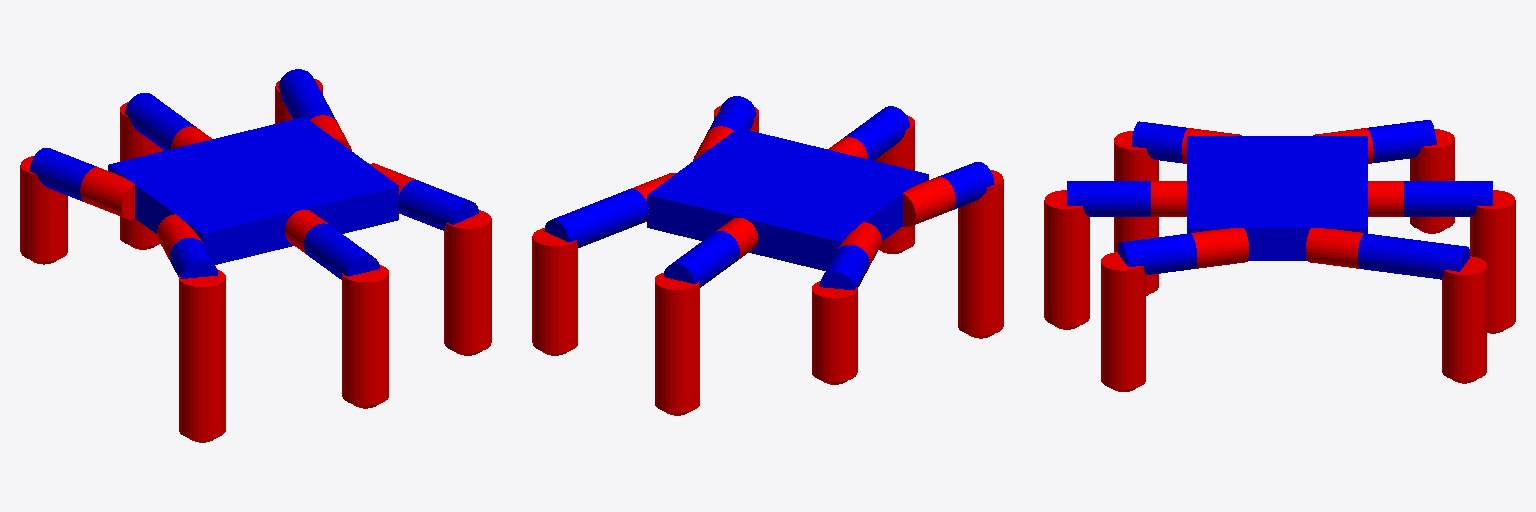
--- Render facts (derived) ---
3 views of the same robot in one strip: view 1: azimuth 30°, elevation 25°; view 2: azimuth 150°, elevation 25°; view 3: azimuth 270°, elevation 25° (orthographic).
Robot: pexod — 19 links, 18 joints (18 revolute); root link base_link; default pose: all joints at 0.
Links seen in each view (by area): view 1: base_link, leg_5_3, leg_3_3, leg_4_3, leg_0_3, leg_3_2, leg_4_2, leg_1_2, leg_0_1, leg_1_3, leg_0_2, leg_2_2 (+5 smaller); view 2: base_link, leg_5_3, leg_1_3, leg_2_3, leg_0_3, leg_2_2, leg_1_2, leg_5_1, leg_4_2, leg_4_3, leg_0_2, leg_5_2 (+3 smaller); view 3: base_link, leg_4_3, leg_3_3, leg_2_3, leg_1_3, leg_2_2, leg_1_2, leg_5_3, leg_4_2, leg_3_2, leg_0_3, leg_0_2 (+5 smaller).
Link boxes in pixels (bbox=[...]): base_link: bbox=[108, 117, 398, 264]; leg_5_3: bbox=[179, 269, 225, 442]; leg_3_3: bbox=[444, 210, 491, 355]; leg_4_3: bbox=[342, 264, 388, 408]; leg_0_3: bbox=[20, 156, 67, 264]; leg_3_2: bbox=[398, 180, 478, 230]; leg_4_2: bbox=[304, 223, 379, 279]; leg_1_2: bbox=[125, 93, 196, 150]; leg_0_1: bbox=[80, 167, 134, 219]; leg_1_3: bbox=[120, 102, 163, 249]; leg_0_2: bbox=[30, 148, 96, 201]; leg_2_2: bbox=[278, 69, 336, 120]; base_link: bbox=[647, 128, 928, 270]; leg_5_3: bbox=[958, 170, 1003, 338]; leg_1_3: bbox=[655, 273, 699, 415]; leg_2_3: bbox=[532, 228, 577, 355]; leg_0_3: bbox=[812, 281, 857, 384]; leg_2_2: bbox=[544, 189, 648, 247]; leg_1_2: bbox=[664, 231, 739, 287]; leg_5_1: bbox=[903, 177, 955, 226]; leg_4_2: bbox=[844, 106, 909, 160]; leg_4_3: bbox=[875, 115, 914, 253]; leg_0_2: bbox=[819, 245, 869, 290]; leg_5_2: bbox=[938, 162, 994, 210]; base_link: bbox=[1187, 136, 1367, 260]; leg_4_3: bbox=[1044, 190, 1089, 329]; leg_3_3: bbox=[1101, 252, 1145, 391]; leg_2_3: bbox=[1442, 256, 1486, 383]; leg_1_3: bbox=[1470, 190, 1515, 333]; leg_2_2: bbox=[1358, 233, 1469, 279]; leg_1_2: bbox=[1404, 181, 1492, 216]; leg_5_3: bbox=[1114, 131, 1158, 295]; leg_4_2: bbox=[1067, 181, 1150, 216]; leg_3_2: bbox=[1118, 233, 1197, 274]; leg_0_3: bbox=[1410, 129, 1454, 233]; leg_0_2: bbox=[1367, 120, 1436, 163].
Bounding box of the posed robot: 0.3817 × 0.5205 × 0.2108 m (x, y, z).
Geometry: primitives only (box / cylinder / sphere), no mesh files.

robot.urdf — pexod:
<?xml version="1.0" ?>
<!-- =================================================================================== -->
<!-- |    This document was autogenerated by xacro from pexod.xacro                    | -->
<!-- |    EDITING THIS FILE BY HAND IS NOT RECOMMENDED                                 | -->
<!-- =================================================================================== -->
<robot name="pexod" xmlns:xacro="http://www.ros.org/wiki/xacro">
  <!-- <xacro:include filename="$(find pexod_description)/urdf/pexod_control.xacro" /> -->
  <!-- MATERIALS -->
  <material name="Blue">
    <color rgba="0 0 1 1"/>
  </material>
  <material name="Red">
    <color rgba="1 0 0 1"/>
  </material>
  <material name="Green">
    <color rgba="0 1 0 1"/>
  </material>
  <material name="Yellow">
    <color rgba="1 1 0 1"/>
  </material>
  <material name="LightGrey">
    <color rgba="0.6 0.6 0.6 1.0"/>
  </material>
  <!-- END OF MATERIALS -->
  <!-- XACRO MACROS FOR VISUALS AND COLLISIONS -->
  <!-- END OF XACRO MACROS -->
  <!-- TORSO -->
  <link name="base_link">
    <visual>
      <origin rpy="0 0 0" xyz="0 0 0"/>
      <geometry>
        <box size="0.24 0.2 0.04"/>
      </geometry>
      <material name="Blue"/>
    </visual>
    <collision>
      <origin rpy="0 0 0" xyz="0 0 0"/>
      <geometry>
        <box size="0.24 0.2 0.04"/>
      </geometry>
    </collision>
    <inertial>
      <!-- CENTER OF MASS -->
      <origin rpy="0 0 0" xyz="0 0 0"/>
      <mass value="1.031"/>
      <!-- box inertia: 1/12*m(y^2+z^2), ... -->
      <inertia ixx="0.00357413333333" ixy="0" ixz="0" iyy="0.00508626666667" iyz="0" izz="0.00838546666667"/>
    </inertial>
  </link>
  <!-- XACRO MACRO FOR LEGS LINKS/JOINTS -->
  <!-- END OF LEG LINKS/JOINTS -->
  <joint name="body_leg_2" type="revolute">
    <parent link="base_link"/>
    <child link="leg_2_1"/>
    <limit effort="30.0" lower="-1.57079632679" upper="1.57079632679" velocity="7.0"/>
    <origin rpy="0 0 -0.3" xyz="0.11 0.04 0"/>
    <!-- <xacro:if value="${index == 5 or index == 4 or index == 3}">
                <axis xyz="0 0 1"/>
            </xacro:if>
            <xacro:if value="${index == 2 or index == 1 or index == 0}"> -->
    <axis xyz="0 0 1"/>
    <!-- </xacro:if> -->
    <dynamics damping="0.0"/>
  </joint>
  <link name="leg_2_1">
    <visual>
      <origin rpy="1.57079632679 0 0" xyz="0.01 0.03 0"/>
      <geometry>
        <cylinder length="0.06" radius="0.02"/>
      </geometry>
      <material name="Red"/>
    </visual>
    <collision>
      <origin rpy="1.57079632679 0 0" xyz="0.01 0.03 0"/>
      <geometry>
        <box size="0.02 0.02 0.06"/>
      </geometry>
    </collision>
    <inertial>
      <!-- CENTER OF MASS -->
      <origin rpy="1.57079632679 0 0" xyz="0.01 0.03 0"/>
      <mass value="0.02"/>
      <!-- box inertia: 1/12*m(y^2+z^2), ... -->
      <inertia ixx="6.66666666667e-06" ixy="0" ixz="0" iyy="6.66666666667e-06" iyz="0" izz="1.33333333333e-06"/>
    </inertial>
  </link>
  <joint name="leg_2_1_2" type="revolute">
    <parent link="leg_2_1"/>
    <child link="leg_2_2"/>
    <limit effort="30.0" lower="-0.78539816339" upper="0.78539816339" velocity="7.0"/>
    <origin rpy="0 0 0" xyz="0 0.06 0"/>
    <axis xyz="1 0 0"/>
    <dynamics damping="0.0"/>
  </joint>
  <link name="leg_2_2">
    <visual>
      <origin rpy="1.57079632679 0 0" xyz="0.01 0.059109627124 0"/>
      <geometry>
        <cylinder length="0.118219254248" radius="0.02"/>
      </geometry>
      <material name="Blue"/>
    </visual>
    <collision>
      <origin rpy="1.57079632679 0 0" xyz="0.01 0.059109627124 0"/>
      <geometry>
        <box size="0.02 0.02 0.118219254248"/>
      </geometry>
    </collision>
    <inertial>
      <!-- CENTER OF MASS -->
      <origin rpy="1.57079632679 0 0" xyz="0.01 0.059109627124 0"/>
      <mass value="0.184"/>
      <!-- box inertia: 1/12*m(y^2+z^2), ... -->
      <inertia ixx="0.000220428811816" ixy="0" ixz="0" iyy="0.000220428811816" iyz="0" izz="1.22666666667e-05"/>
    </inertial>
  </link>
  <joint name="leg_2_2_3" type="revolute">
    <parent link="leg_2_2"/>
    <child link="leg_2_3"/>
    <limit effort="30.0" lower="-0.78539816339" upper="0.78539816339" velocity="7.0"/>
    <origin rpy="-1.57079632679 0 0" xyz="0 0.118219254248 0"/>
    <axis xyz="-1 0 0"/>
    <dynamics damping="0.0"/>
  </joint>
  <link name="leg_2_3">
    <visual>
      <origin rpy="1.57079632679 0 0" xyz="0.0125 0.064524246745 0"/>
      <geometry>
        <cylinder length="0.12904849349" radius="0.025"/>
      </geometry>
      <material name="Red"/>
    </visual>
    <visual>
      <origin rpy="1.57079632679 0 0" xyz="0.0125 0.11654849349 0"/>
      <geometry>
        <sphere radius="0.025"/>
      </geometry>
      <material name="Red"/>
    </visual>
    <collision>
      <origin rpy="1.57079632679 0 0" xyz="0.0125 0.064524246745 0"/>
      <geometry>
        <box size="0.025 0.025 0.12904849349"/>
      </geometry>
    </collision>
    <collision>
      <origin rpy="1.57079632679 0 0" xyz="0.0125 0.11654849349 0"/>
      <geometry>
        <sphere radius="0.025"/>
      </geometry>
      <material name="Red"/>
    </collision>
    <inertial>
      <!-- CENTER OF MASS -->
      <origin rpy="1.57079632679 0 0" xyz="0.0125 0.064524246745 0"/>
      <mass value="0.04"/>
      <!-- box inertia: 1/12*m(y^2+z^2), ... -->
      <inertia ixx="5.75950455735e-05" ixy="0" ixz="0" iyy="5.75950455735e-05" iyz="0" izz="4.16666666667e-06"/>
    </inertial>
  </link>
  <joint name="body_leg_3" type="revolute">
    <parent link="base_link"/>
    <child link="leg_3_1"/>
    <limit effort="30.0" lower="-1.57079632679" upper="1.57079632679" velocity="7.0"/>
    <origin rpy="0 0 0.3" xyz="0.11 -0.04 0"/>
    <!-- <xacro:if value="${index == 5 or index == 4 or index == 3}">
                <axis xyz="0 0 1"/>
            </xacro:if>
            <xacro:if value="${index == 2 or index == 1 or index == 0}"> -->
    <axis xyz="0 0 1"/>
    <!-- </xacro:if> -->
    <dynamics damping="0.0"/>
  </joint>
  <link name="leg_3_1">
    <visual>
      <origin rpy="1.57079632679 0 0" xyz="0.01 -0.03 0"/>
      <geometry>
        <cylinder length="0.06" radius="0.02"/>
      </geometry>
      <material name="Red"/>
    </visual>
    <collision>
      <origin rpy="1.57079632679 0 0" xyz="0.01 -0.03 0"/>
      <geometry>
        <box size="0.02 0.02 0.06"/>
      </geometry>
    </collision>
    <inertial>
      <!-- CENTER OF MASS -->
      <origin rpy="1.57079632679 0 0" xyz="0.01 -0.03 0"/>
      <mass value="0.02"/>
      <!-- box inertia: 1/12*m(y^2+z^2), ... -->
      <inertia ixx="6.66666666667e-06" ixy="0" ixz="0" iyy="6.66666666667e-06" iyz="0" izz="1.33333333333e-06"/>
    </inertial>
  </link>
  <joint name="leg_3_1_2" type="revolute">
    <parent link="leg_3_1"/>
    <child link="leg_3_2"/>
    <limit effort="30.0" lower="-0.78539816339" upper="0.78539816339" velocity="7.0"/>
    <origin rpy="0 0 0" xyz="0 -0.06 0"/>
    <axis xyz="-1 0 0"/>
    <dynamics damping="0.0"/>
  </joint>
  <link name="leg_3_2">
    <visual>
      <origin rpy="1.57079632679 0 0" xyz="0.01 -0.0399993114302 0"/>
      <geometry>
        <cylinder length="0.0799986228603" radius="0.02"/>
      </geometry>
      <material name="Blue"/>
    </visual>
    <collision>
      <origin rpy="1.57079632679 0 0" xyz="0.01 -0.0399993114302 0"/>
      <geometry>
        <box size="0.02 0.02 0.0799986228603"/>
      </geometry>
    </collision>
    <inertial>
      <!-- CENTER OF MASS -->
      <origin rpy="1.57079632679 0 0" xyz="0.01 -0.0399993114302 0"/>
      <mass value="0.184"/>
      <!-- box inertia: 1/12*m(y^2+z^2), ... -->
      <inertia ixx="0.000104263288113" ixy="0" ixz="0" iyy="0.000104263288113" iyz="0" izz="1.22666666667e-05"/>
    </inertial>
  </link>
  <joint name="leg_3_2_3" type="revolute">
    <parent link="leg_3_2"/>
    <child link="leg_3_3"/>
    <limit effort="30.0" lower="-0.78539816339" upper="0.78539816339" velocity="7.0"/>
    <origin rpy="1.57079632679 0 0" xyz="0 -0.0799986228603 0"/>
    <axis xyz="1 0 0"/>
    <dynamics damping="0.0"/>
  </joint>
  <link name="leg_3_3">
    <visual>
      <origin rpy="1.57079632679 0 0" xyz="0.0125 -0.0724970140915 0"/>
      <geometry>
        <cylinder length="0.144994028183" radius="0.025"/>
      </geometry>
      <material name="Red"/>
    </visual>
    <visual>
      <origin rpy="1.57079632679 0 0" xyz="0.0125 -0.132494028183 0"/>
      <geometry>
        <sphere radius="0.025"/>
      </geometry>
      <material name="Red"/>
    </visual>
    <collision>
      <origin rpy="1.57079632679 0 0" xyz="0.0125 -0.0724970140915 0"/>
      <geometry>
        <box size="0.025 0.025 0.144994028183"/>
      </geometry>
    </collision>
    <collision>
      <origin rpy="1.57079632679 0 0" xyz="0.0125 -0.132494028183 0"/>
      <geometry>
        <sphere radius="0.025"/>
      </geometry>
      <material name="Red"/>
    </collision>
    <inertial>
      <!-- CENTER OF MASS -->
      <origin rpy="1.57079632679 0 0" xyz="0.0125 -0.0724970140915 0"/>
      <mass value="0.04"/>
      <!-- box inertia: 1/12*m(y^2+z^2), ... -->
      <inertia ixx="7.21608940291e-05" ixy="0" ixz="0" iyy="7.21608940291e-05" iyz="0" izz="4.16666666667e-06"/>
    </inertial>
  </link>
  <joint name="body_leg_0" type="revolute">
    <parent link="base_link"/>
    <child link="leg_0_1"/>
    <limit effort="30.0" lower="-1.57079632679" upper="1.57079632679" velocity="7.0"/>
    <origin rpy="0 0 0.3" xyz="-0.13 0.04 0"/>
    <!-- <xacro:if value="${index == 5 or index == 4 or index == 3}">
                <axis xyz="0 0 1"/>
            </xacro:if>
            <xacro:if value="${index == 2 or index == 1 or index == 0}"> -->
    <axis xyz="0 0 1"/>
    <!-- </xacro:if> -->
    <dynamics damping="0.0"/>
  </joint>
  <link name="leg_0_1">
    <visual>
      <origin rpy="1.57079632679 0 0" xyz="0.01 0.03 0"/>
      <geometry>
        <cylinder length="0.06" radius="0.02"/>
      </geometry>
      <material name="Red"/>
    </visual>
    <collision>
      <origin rpy="1.57079632679 0 0" xyz="0.01 0.03 0"/>
      <geometry>
        <box size="0.02 0.02 0.06"/>
      </geometry>
    </collision>
    <inertial>
      <!-- CENTER OF MASS -->
      <origin rpy="1.57079632679 0 0" xyz="0.01 0.03 0"/>
      <mass value="0.02"/>
      <!-- box inertia: 1/12*m(y^2+z^2), ... -->
      <inertia ixx="6.66666666667e-06" ixy="0" ixz="0" iyy="6.66666666667e-06" iyz="0" izz="1.33333333333e-06"/>
    </inertial>
  </link>
  <joint name="leg_0_1_2" type="revolute">
    <parent link="leg_0_1"/>
    <child link="leg_0_2"/>
    <limit effort="30.0" lower="-0.78539816339" upper="0.78539816339" velocity="7.0"/>
    <origin rpy="0 0 0" xyz="0 0.06 0"/>
    <axis xyz="1 0 0"/>
    <dynamics damping="0.0"/>
  </joint>
  <link name="leg_0_2">
    <visual>
      <origin rpy="1.57079632679 0 0" xyz="0.01 0.0364745700105 0"/>
      <geometry>
        <cylinder length="0.072949140021" radius="0.02"/>
      </geometry>
      <material name="Blue"/>
    </visual>
    <collision>
      <origin rpy="1.57079632679 0 0" xyz="0.01 0.0364745700105 0"/>
      <geometry>
        <box size="0.02 0.02 0.072949140021"/>
      </geometry>
    </collision>
    <inertial>
      <!-- CENTER OF MASS -->
      <origin rpy="1.57079632679 0 0" xyz="0.01 0.0364745700105 0"/>
      <mass value="0.184"/>
      <!-- box inertia: 1/12*m(y^2+z^2), ... -->
      <inertia ixx="8.77308477903e-05" ixy="0" ixz="0" iyy="8.77308477903e-05" iyz="0" izz="1.22666666667e-05"/>
    </inertial>
  </link>
  <joint name="leg_0_2_3" type="revolute">
    <parent link="leg_0_2"/>
    <child link="leg_0_3"/>
    <limit effort="30.0" lower="-0.78539816339" upper="0.78539816339" velocity="7.0"/>
    <origin rpy="-1.57079632679 0 0" xyz="0 0.072949140021 0"/>
    <axis xyz="-1 0 0"/>
    <dynamics damping="0.0"/>
  </joint>
  <link name="leg_0_3">
    <visual>
      <origin rpy="1.57079632679 0 0" xyz="0.0125 0.050621803483 0"/>
      <geometry>
        <cylinder length="0.101243606966" radius="0.025"/>
      </geometry>
      <material name="Red"/>
    </visual>
    <visual>
      <origin rpy="1.57079632679 0 0" xyz="0.0125 0.088743606966 0"/>
      <geometry>
        <sphere radius="0.025"/>
      </geometry>
      <material name="Red"/>
    </visual>
    <collision>
      <origin rpy="1.57079632679 0 0" xyz="0.0125 0.050621803483 0"/>
      <geometry>
        <box size="0.025 0.025 0.101243606966"/>
      </geometry>
    </collision>
    <collision>
      <origin rpy="1.57079632679 0 0" xyz="0.0125 0.088743606966 0"/>
      <geometry>
        <sphere radius="0.025"/>
      </geometry>
      <material name="Red"/>
    </collision>
    <inertial>
      <!-- CENTER OF MASS -->
      <origin rpy="1.57079632679 0 0" xyz="0.0125 0.050621803483 0"/>
      <mass value="0.04"/>
      <!-- box inertia: 1/12*m(y^2+z^2), ... -->
      <inertia ixx="3.62508931716e-05" ixy="0" ixz="0" iyy="3.62508931716e-05" iyz="0" izz="4.16666666667e-06"/>
    </inertial>
  </link>
  <joint name="body_leg_5" type="revolute">
    <parent link="base_link"/>
    <child link="leg_5_1"/>
    <limit effort="30.0" lower="-1.57079632679" upper="1.57079632679" velocity="7.0"/>
    <origin rpy="0 0 -0.3" xyz="-0.13 -0.04 0"/>
    <!-- <xacro:if value="${index == 5 or index == 4 or index == 3}">
                <axis xyz="0 0 1"/>
            </xacro:if>
            <xacro:if value="${index == 2 or index == 1 or index == 0}"> -->
    <axis xyz="0 0 1"/>
    <!-- </xacro:if> -->
    <dynamics damping="0.0"/>
  </joint>
  <link name="leg_5_1">
    <visual>
      <origin rpy="1.57079632679 0 0" xyz="0.01 -0.03 0"/>
      <geometry>
        <cylinder length="0.06" radius="0.02"/>
      </geometry>
      <material name="Red"/>
    </visual>
    <collision>
      <origin rpy="1.57079632679 0 0" xyz="0.01 -0.03 0"/>
      <geometry>
        <box size="0.02 0.02 0.06"/>
      </geometry>
    </collision>
    <inertial>
      <!-- CENTER OF MASS -->
      <origin rpy="1.57079632679 0 0" xyz="0.01 -0.03 0"/>
      <mass value="0.02"/>
      <!-- box inertia: 1/12*m(y^2+z^2), ... -->
      <inertia ixx="6.66666666667e-06" ixy="0" ixz="0" iyy="6.66666666667e-06" iyz="0" izz="1.33333333333e-06"/>
    </inertial>
  </link>
  <joint name="leg_5_1_2" type="revolute">
    <parent link="leg_5_1"/>
    <child link="leg_5_2"/>
    <limit effort="30.0" lower="-0.78539816339" upper="0.78539816339" velocity="7.0"/>
    <origin rpy="0 0 0" xyz="0 -0.06 0"/>
    <axis xyz="-1 0 0"/>
    <dynamics damping="0.0"/>
  </joint>
  <link name="leg_5_2">
    <visual>
      <origin rpy="1.57079632679 0 0" xyz="0.01 -0.0288432952576 0"/>
      <geometry>
        <cylinder length="0.0576865905153" radius="0.02"/>
      </geometry>
      <material name="Blue"/>
    </visual>
    <collision>
      <origin rpy="1.57079632679 0 0" xyz="0.01 -0.0288432952576 0"/>
      <geometry>
        <box size="0.02 0.02 0.0576865905153"/>
      </geometry>
    </collision>
    <inertial>
      <!-- CENTER OF MASS -->
      <origin rpy="1.57079632679 0 0" xyz="0.01 -0.0288432952576 0"/>
      <mass value="0.184"/>
      <!-- box inertia: 1/12*m(y^2+z^2), ... -->
      <inertia ixx="5.71587217876e-05" ixy="0" ixz="0" iyy="5.71587217876e-05" iyz="0" izz="1.22666666667e-05"/>
    </inertial>
  </link>
  <joint name="leg_5_2_3" type="revolute">
    <parent link="leg_5_2"/>
    <child link="leg_5_3"/>
    <limit effort="30.0" lower="-0.78539816339" upper="0.78539816339" velocity="7.0"/>
    <origin rpy="1.57079632679 0 0" xyz="0 -0.0576865905153 0"/>
    <axis xyz="1 0 0"/>
    <dynamics damping="0.0"/>
  </joint>
  <link name="leg_5_3">
    <visual>
      <origin rpy="1.57079632679 0 0" xyz="0.0125 -0.089140781874 0"/>
      <geometry>
        <cylinder length="0.178281563748" radius="0.025"/>
      </geometry>
      <material name="Red"/>
    </visual>
    <visual>
      <origin rpy="1.57079632679 0 0" xyz="0.0125 -0.165781563748 0"/>
      <geometry>
        <sphere radius="0.025"/>
      </geometry>
      <material name="Red"/>
    </visual>
    <collision>
      <origin rpy="1.57079632679 0 0" xyz="0.0125 -0.089140781874 0"/>
      <geometry>
        <box size="0.025 0.025 0.178281563748"/>
      </geometry>
    </collision>
    <collision>
      <origin rpy="1.57079632679 0 0" xyz="0.0125 -0.165781563748 0"/>
      <geometry>
        <sphere radius="0.025"/>
      </geometry>
      <material name="Red"/>
    </collision>
    <inertial>
      <!-- CENTER OF MASS -->
      <origin rpy="1.57079632679 0 0" xyz="0.0125 -0.089140781874 0"/>
      <mass value="0.04"/>
      <!-- box inertia: 1/12*m(y^2+z^2), ... -->
      <inertia ixx="0.000108031053241" ixy="0" ixz="0" iyy="0.000108031053241" iyz="0" izz="4.16666666667e-06"/>
    </inertial>
  </link>
  <joint name="body_leg_1" type="revolute">
    <parent link="base_link"/>
    <child link="leg_1_1"/>
    <limit effort="30.0" lower="-1.57079632679" upper="1.57079632679" velocity="7.0"/>
    <origin rpy="0 0 0" xyz="-0.01 0.08 0"/>
    <!-- <xacro:if value="${index == 5 or index == 4 or index == 3}">
                <axis xyz="0 0 1"/>
            </xacro:if>
            <xacro:if value="${index == 2 or index == 1 or index == 0}"> -->
    <axis xyz="0 0 1"/>
    <!-- </xacro:if> -->
    <dynamics damping="0.0"/>
  </joint>
  <link name="leg_1_1">
    <visual>
      <origin rpy="1.57079632679 0 0" xyz="0.01 0.03 0"/>
      <geometry>
        <cylinder length="0.06" radius="0.02"/>
      </geometry>
      <material name="Red"/>
    </visual>
    <collision>
      <origin rpy="1.57079632679 0 0" xyz="0.01 0.03 0"/>
      <geometry>
        <box size="0.02 0.02 0.06"/>
      </geometry>
    </collision>
    <inertial>
      <!-- CENTER OF MASS -->
      <origin rpy="1.57079632679 0 0" xyz="0.01 0.03 0"/>
      <mass value="0.02"/>
      <!-- box inertia: 1/12*m(y^2+z^2), ... -->
      <inertia ixx="6.66666666667e-06" ixy="0" ixz="0" iyy="6.66666666667e-06" iyz="0" izz="1.33333333333e-06"/>
    </inertial>
  </link>
  <joint name="leg_1_1_2" type="revolute">
    <parent link="leg_1_1"/>
    <child link="leg_1_2"/>
    <limit effort="30.0" lower="-0.78539816339" upper="0.78539816339" velocity="7.0"/>
    <origin rpy="0 0 0" xyz="0 0.06 0"/>
    <axis xyz="1 0 0"/>
    <dynamics damping="0.0"/>
  </joint>
  <link name="leg_1_2">
    <visual>
      <origin rpy="1.57079632679 0 0" xyz="0.01 0.0489709491867 0"/>
      <geometry>
        <cylinder length="0.0979418983735" radius="0.02"/>
      </geometry>
      <material name="Blue"/>
    </visual>
    <collision>
      <origin rpy="1.57079632679 0 0" xyz="0.01 0.0489709491867 0"/>
      <geometry>
        <box size="0.02 0.02 0.0979418983735"/>
      </geometry>
    </collision>
    <inertial>
      <!-- CENTER OF MASS -->
      <origin rpy="1.57079632679 0 0" xyz="0.01 0.0489709491867 0"/>
      <mass value="0.184"/>
      <!-- box inertia: 1/12*m(y^2+z^2), ... -->
      <inertia ixx="0.000153220103674" ixy="0" ixz="0" iyy="0.000153220103674" iyz="0" izz="1.22666666667e-05"/>
    </inertial>
  </link>
  <joint name="leg_1_2_3" type="revolute">
    <parent link="leg_1_2"/>
    <child link="leg_1_3"/>
    <limit effort="30.0" lower="-0.78539816339" upper="0.78539816339" velocity="7.0"/>
    <origin rpy="-1.57079632679 0 0" xyz="0 0.0979418983735 0"/>
    <axis xyz="-1 0 0"/>
    <dynamics damping="0.0"/>
  </joint>
  <link name="leg_1_3">
    <visual>
      <origin rpy="1.57079632679 0 0" xyz="0.0125 0.0742619418565 0"/>
      <geometry>
        <cylinder length="0.148523883713" radius="0.025"/>
      </geometry>
      <material name="Red"/>
    </visual>
    <visual>
      <origin rpy="1.57079632679 0 0" xyz="0.0125 0.136023883713 0"/>
      <geometry>
        <sphere radius="0.025"/>
      </geometry>
      <material name="Red"/>
    </visual>
    <collision>
      <origin rpy="1.57079632679 0 0" xyz="0.0125 0.0742619418565 0"/>
      <geometry>
        <box size="0.025 0.025 0.148523883713"/>
      </geometry>
    </collision>
    <collision>
      <origin rpy="1.57079632679 0 0" xyz="0.0125 0.136023883713 0"/>
      <geometry>
        <sphere radius="0.025"/>
      </geometry>
      <material name="Red"/>
    </collision>
    <inertial>
      <!-- CENTER OF MASS -->
      <origin rpy="1.57079632679 0 0" xyz="0.0125 0.0742619418565 0"/>
      <mass value="0.04"/>
      <!-- box inertia: 1/12*m(y^2+z^2), ... -->
      <inertia ixx="7.56144801106e-05" ixy="0" ixz="0" iyy="7.56144801106e-05" iyz="0" izz="4.16666666667e-06"/>
    </inertial>
  </link>
  <joint name="body_leg_4" type="revolute">
    <parent link="base_link"/>
    <child link="leg_4_1"/>
    <limit effort="30.0" lower="-1.57079632679" upper="1.57079632679" velocity="7.0"/>
    <origin rpy="0 0 0" xyz="-0.01 -0.08 0"/>
    <!-- <xacro:if value="${index == 5 or index == 4 or index == 3}">
                <axis xyz="0 0 1"/>
            </xacro:if>
            <xacro:if value="${index == 2 or index == 1 or index == 0}"> -->
    <axis xyz="0 0 1"/>
    <!-- </xacro:if> -->
    <dynamics damping="0.0"/>
  </joint>
  <link name="leg_4_1">
    <visual>
      <origin rpy="1.57079632679 0 0" xyz="0.01 -0.03 0"/>
      <geometry>
        <cylinder length="0.06" radius="0.02"/>
      </geometry>
      <material name="Red"/>
    </visual>
    <collision>
      <origin rpy="1.57079632679 0 0" xyz="0.01 -0.03 0"/>
      <geometry>
        <box size="0.02 0.02 0.06"/>
      </geometry>
    </collision>
    <inertial>
      <!-- CENTER OF MASS -->
      <origin rpy="1.57079632679 0 0" xyz="0.01 -0.03 0"/>
      <mass value="0.02"/>
      <!-- box inertia: 1/12*m(y^2+z^2), ... -->
      <inertia ixx="6.66666666667e-06" ixy="0" ixz="0" iyy="6.66666666667e-06" iyz="0" izz="1.33333333333e-06"/>
    </inertial>
  </link>
  <joint name="leg_4_1_2" type="revolute">
    <parent link="leg_4_1"/>
    <child link="leg_4_2"/>
    <limit effort="30.0" lower="-0.78539816339" upper="0.78539816339" velocity="7.0"/>
    <origin rpy="0 0 0" xyz="0 -0.06 0"/>
    <axis xyz="-1 0 0"/>
    <dynamics damping="0.0"/>
  </joint>
  <link name="leg_4_2">
    <visual>
      <origin rpy="1.57079632679 0 0" xyz="0.01 -0.0462678191683 0"/>
      <geometry>
        <cylinder length="0.0925356383366" radius="0.02"/>
      </geometry>
      <material name="Blue"/>
    </visual>
    <collision>
      <origin rpy="1.57079632679 0 0" xyz="0.01 -0.0462678191683 0"/>
      <geometry>
        <box size="0.02 0.02 0.0925356383366"/>
      </geometry>
    </collision>
    <inertial>
      <!-- CENTER OF MASS -->
      <origin rpy="1.57079632679 0 0" xyz="0.01 -0.0462678191683 0"/>
      <mass value="0.184"/>
      <!-- box inertia: 1/12*m(y^2+z^2), ... -->
      <inertia ixx="0.000137430280223" ixy="0" ixz="0" iyy="0.000137430280223" iyz="0" izz="1.22666666667e-05"/>
    </inertial>
  </link>
  <joint name="leg_4_2_3" type="revolute">
    <parent link="leg_4_2"/>
    <child link="leg_4_3"/>
    <limit effort="30.0" lower="-0.78539816339" upper="0.78539816339" velocity="7.0"/>
    <origin rpy="1.57079632679 0 0" xyz="0 -0.0925356383366 0"/>
    <axis xyz="1 0 0"/>
    <dynamics damping="0.0"/>
  </joint>
  <link name="leg_4_3">
    <visual>
      <origin rpy="1.57079632679 0 0" xyz="0.0125 -0.071885498115 0"/>
      <geometry>
        <cylinder length="0.14377099623" radius="0.025"/>
      </geometry>
      <material name="Red"/>
    </visual>
    <visual>
      <origin rpy="1.57079632679 0 0" xyz="0.0125 -0.13127099623 0"/>
      <geometry>
        <sphere radius="0.025"/>
      </geometry>
      <material name="Red"/>
    </visual>
    <collision>
      <origin rpy="1.57079632679 0 0" xyz="0.0125 -0.071885498115 0"/>
      <geometry>
        <box size="0.025 0.025 0.14377099623"/>
      </geometry>
    </collision>
    <collision>
      <origin rpy="1.57079632679 0 0" xyz="0.0125 -0.13127099623 0"/>
      <geometry>
        <sphere radius="0.025"/>
      </geometry>
      <material name="Red"/>
    </collision>
    <inertial>
      <!-- CENTER OF MASS -->
      <origin rpy="1.57079632679 0 0" xyz="0.0125 -0.071885498115 0"/>
      <mass value="0.04"/>
      <!-- box inertia: 1/12*m(y^2+z^2), ... -->
      <inertia ixx="7.09836645232e-05" ixy="0" ixz="0" iyy="7.09836645232e-05" iyz="0" izz="4.16666666667e-06"/>
    </inertial>
  </link>
  <!-- END OF LEG LINKS/JOINTS -->
</robot>
